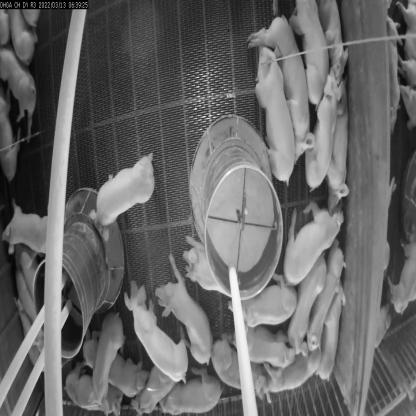Pig: (256, 16, 312, 166), (250, 44, 298, 186), (153, 250, 211, 366), (83, 144, 156, 222), (126, 287, 188, 377), (79, 326, 150, 403), (221, 262, 300, 329), (300, 56, 340, 187), (282, 200, 342, 282), (304, 232, 346, 349), (206, 325, 269, 403), (248, 348, 326, 409), (285, 0, 329, 107), (0, 35, 45, 138), (315, 270, 349, 384), (229, 314, 295, 370), (123, 349, 176, 415), (325, 89, 351, 213), (90, 307, 124, 399), (293, 252, 323, 352), (67, 368, 129, 415), (159, 373, 227, 415), (4, 193, 47, 256), (320, 4, 352, 85), (0, 88, 21, 193)
